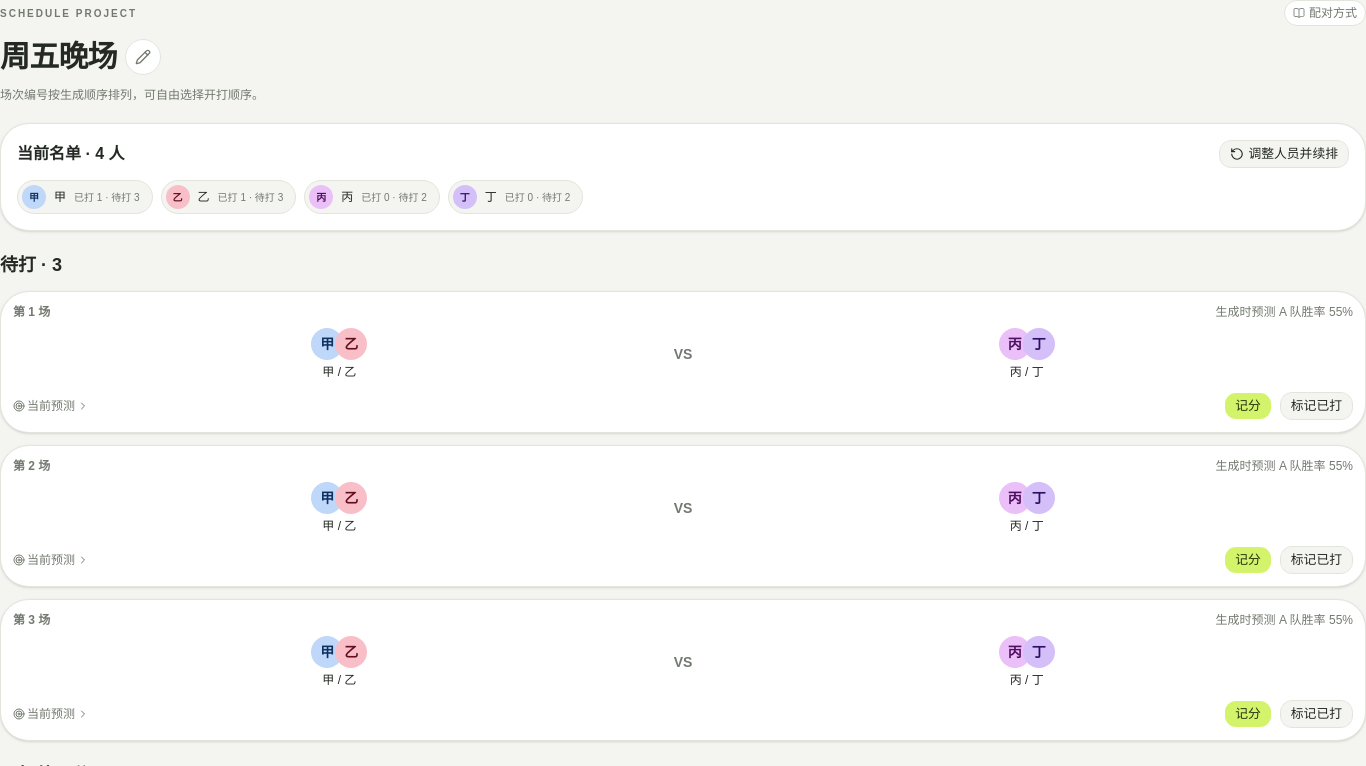
Test: ProjectDetailClient（/schedule/[projectId] 详情） › 续排旁注按详情数据现算 X/Y，checkbox 回显上代选择
The image size is (1366, 766).
Click the button "调整人员并续排" at coordinates (1284, 154), box [1219,140,1349,168]
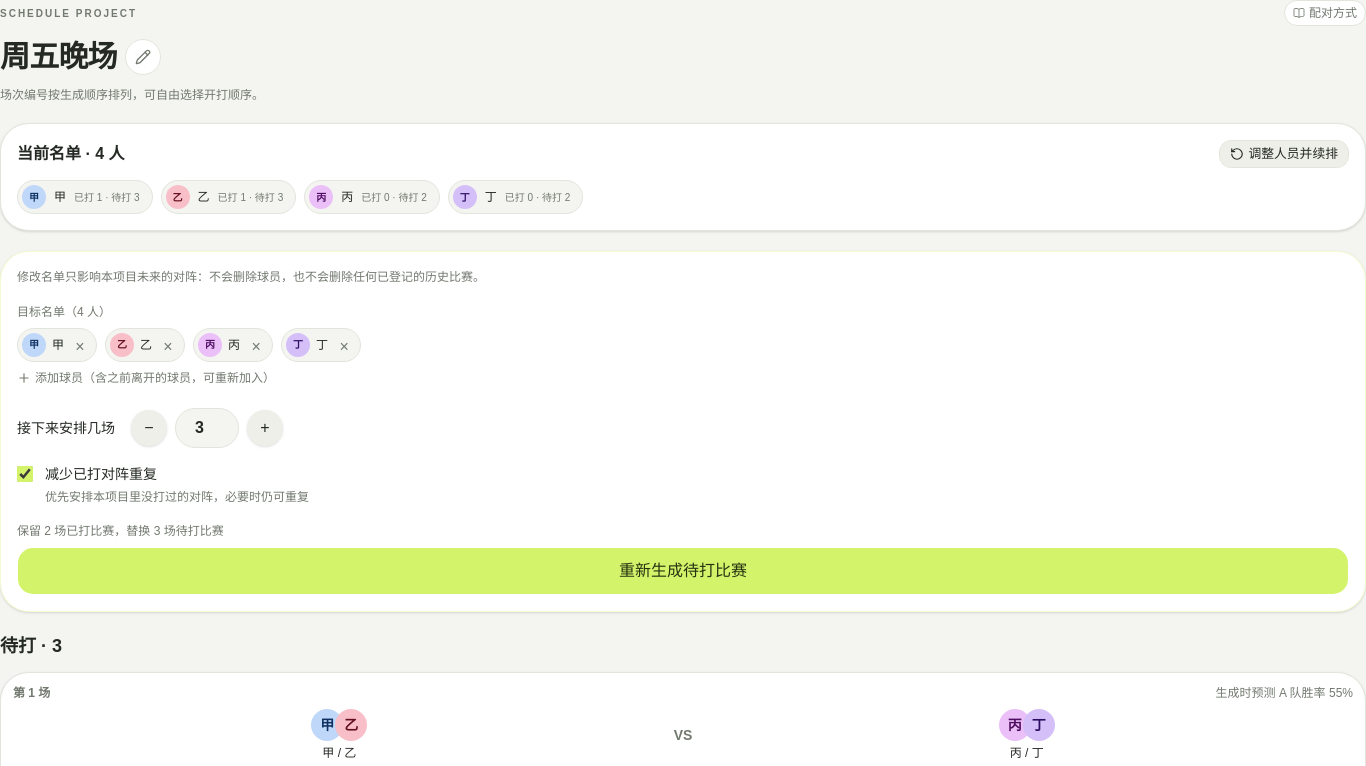
Now the text "保留 2 场已打比赛，替换 3 场待打比赛" is shown, box [17,524,224,538]
Now the checkbox labelled "减少已打对阵重复 优先安排本项目里没打过的对阵，必要时仍可重复" is checked, box [17,466,33,482]
Now the number field named "续排场次数" holds "3", box [175,408,239,448]
